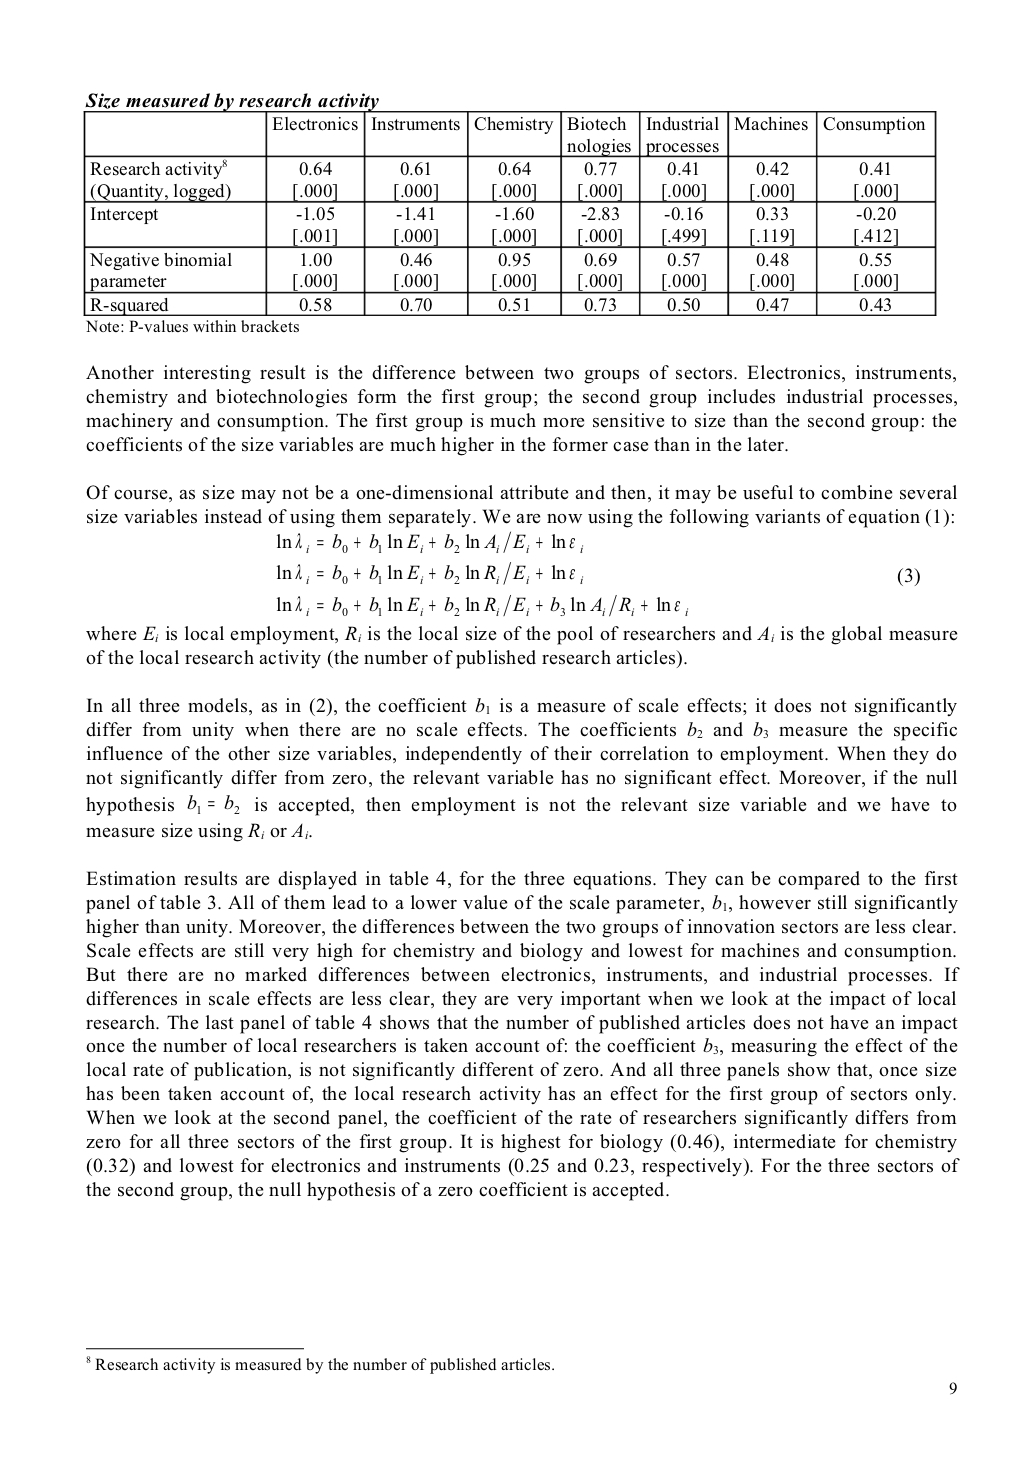Table: (83, 112, 936, 315)
formula: (276, 561, 919, 586), (276, 595, 688, 617), (276, 530, 582, 553)
